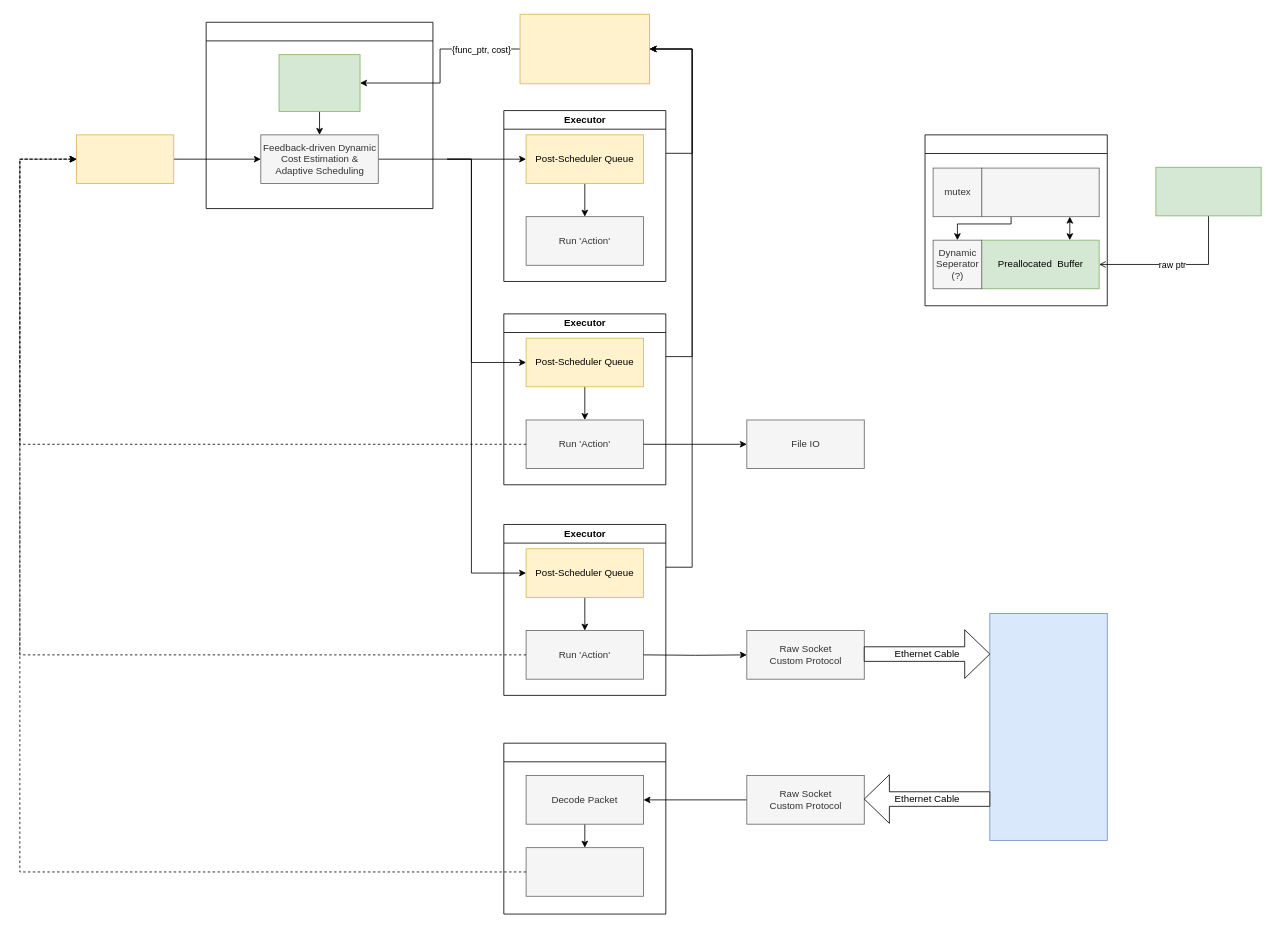
Image size: 1276x928. Some labels were removed from this diagram. The shapes that lost their labels are listed below. From the top down, each one's box as (x1, y1, x2, y2) in pixels, then its label:
(519, 13, 650, 84): ExecutionReportQueue
(278, 54, 360, 111): Action Cost Table
(205, 21, 433, 209): Scheduler
(76, 134, 174, 183): Pre-Scheduler Queue
(981, 167, 1099, 217): Slab Allocator
(1155, 166, 1261, 216): Scoped Memory
(924, 134, 1107, 306): Segregated Fit Memory Pool
(989, 613, 1107, 840): FPGA
(503, 742, 666, 914): Ethernet Recv
(525, 847, 644, 896): Action
